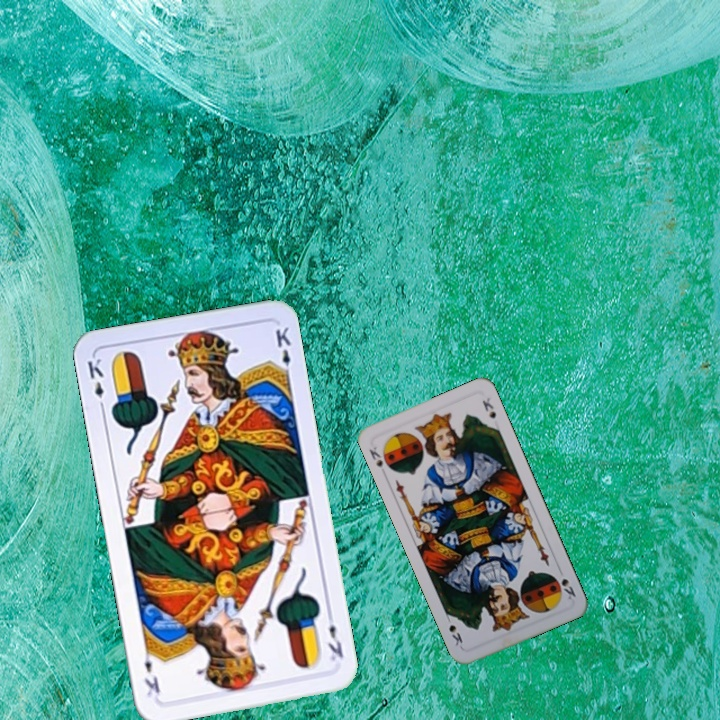EK: (83, 354, 108, 414), (322, 608, 346, 664)
SK: (554, 564, 578, 602), (365, 443, 385, 470)
